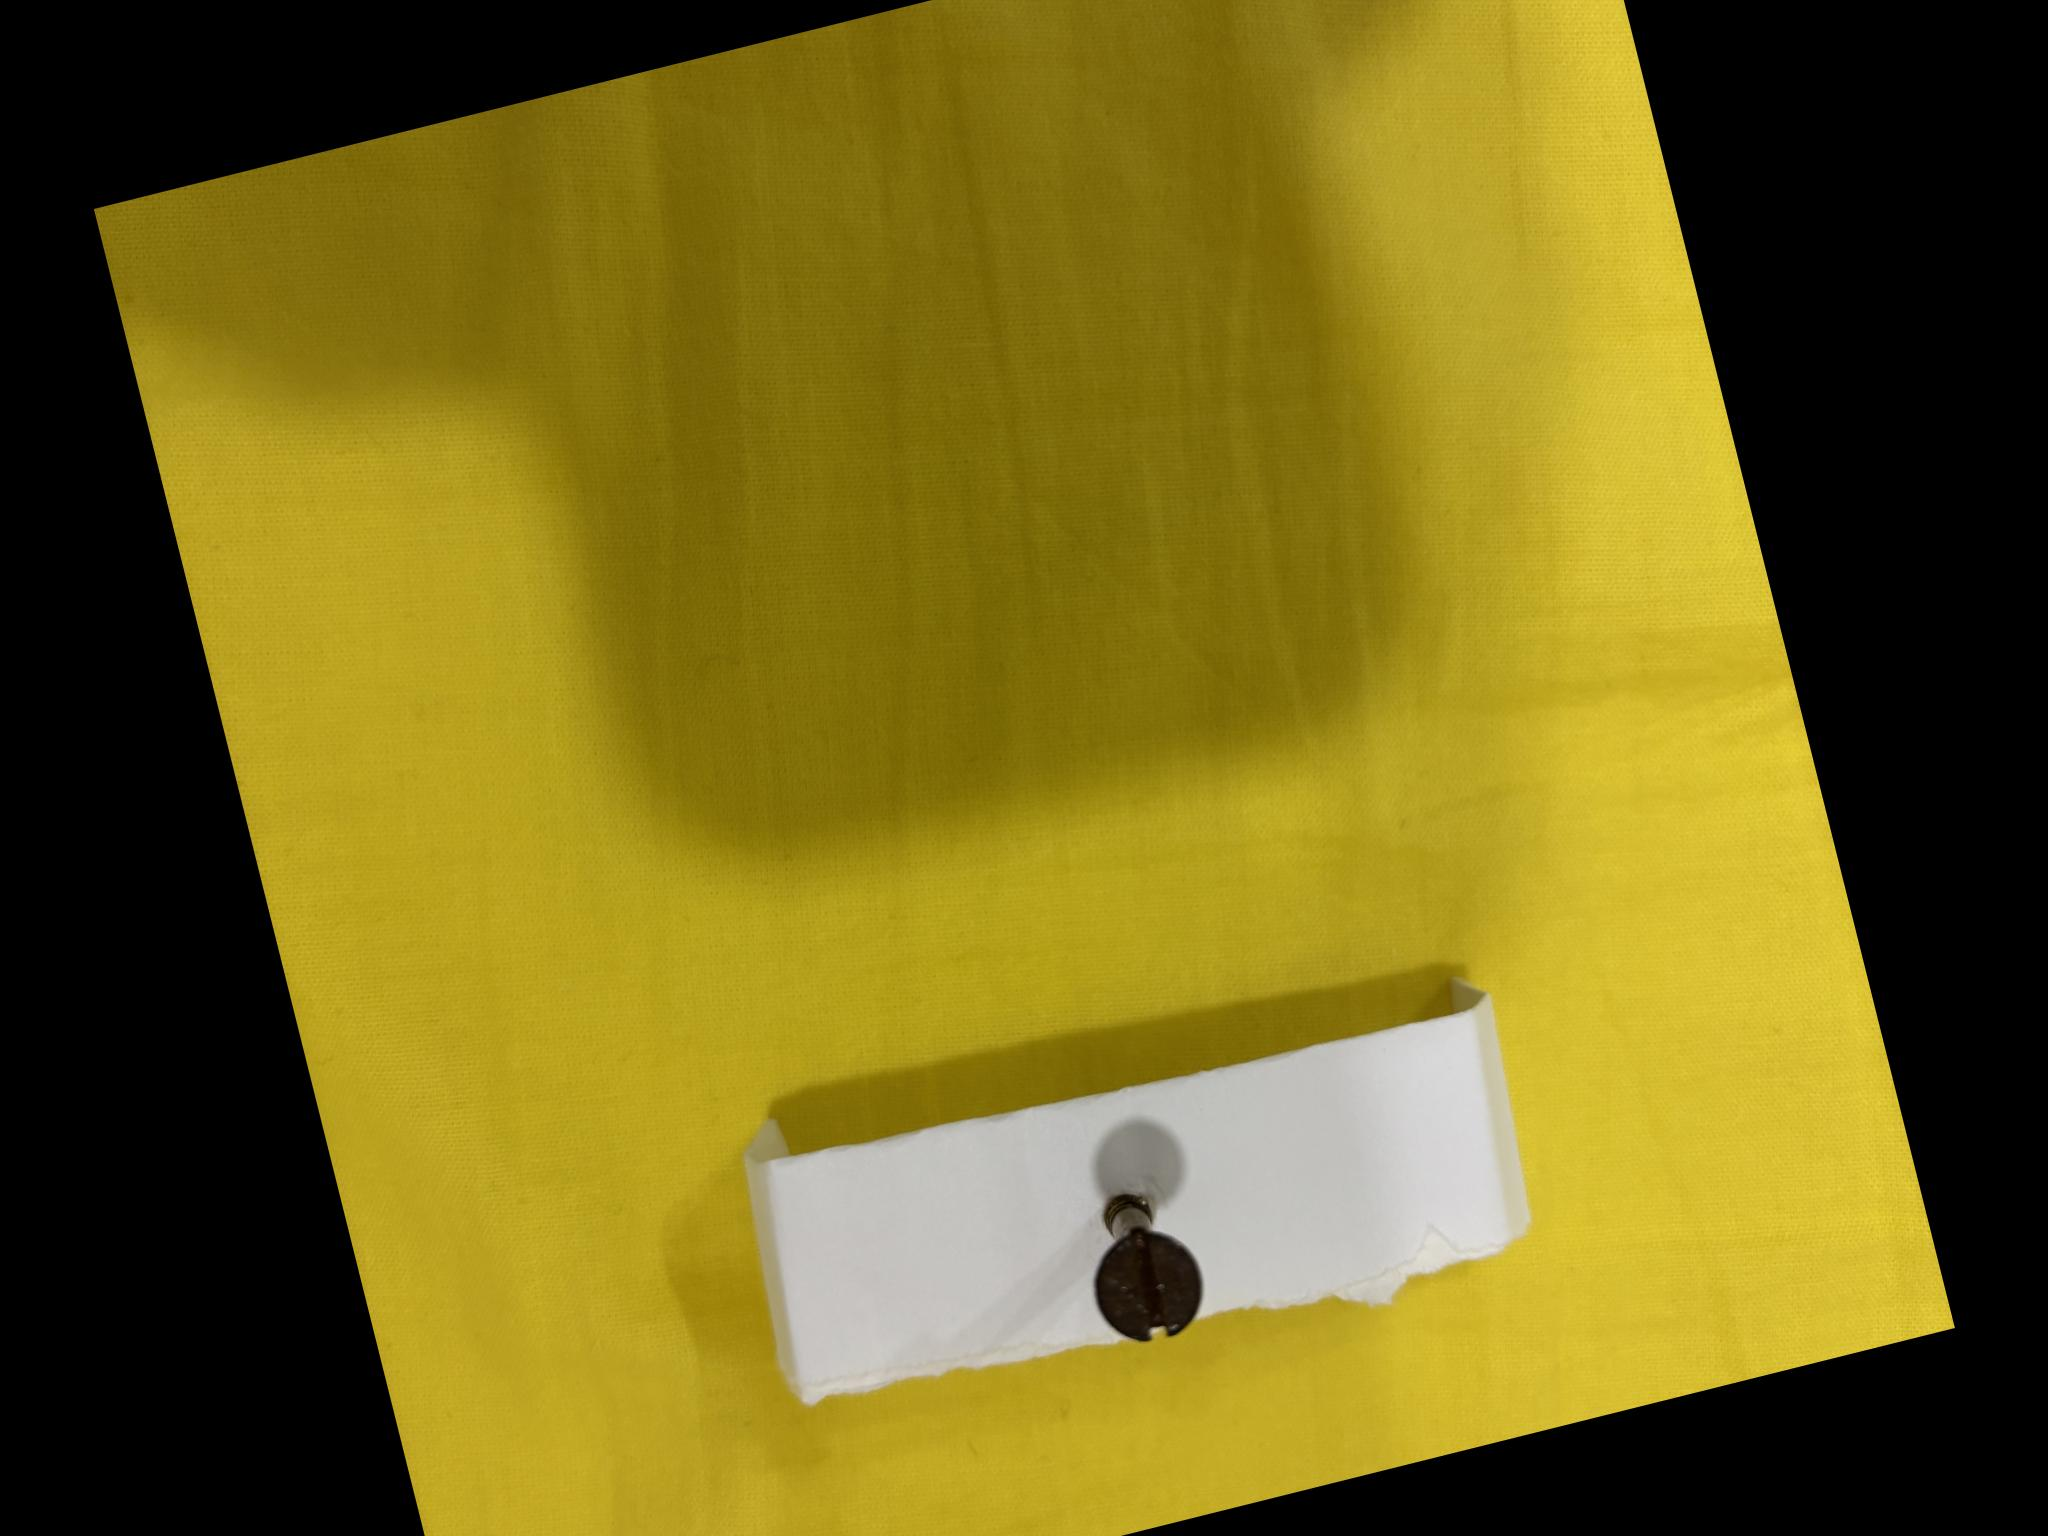SL: (1263, 900, 1411, 1008)
